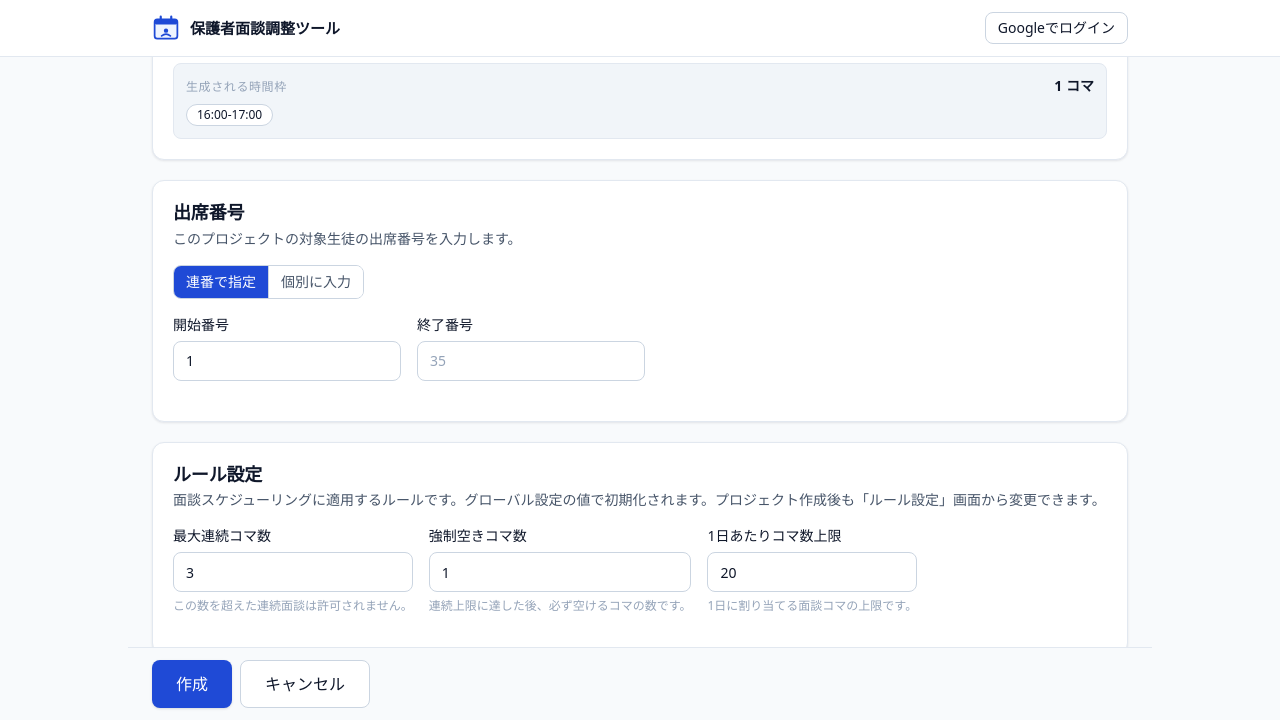
Scenario: ProjectNewPage › 開始番号と終了番号を入力すると連番の出席番号が生成される
(page scrolled)
Type "3" into the number field labelled "開始番号" at (287, 361), box [173,341,401,381]
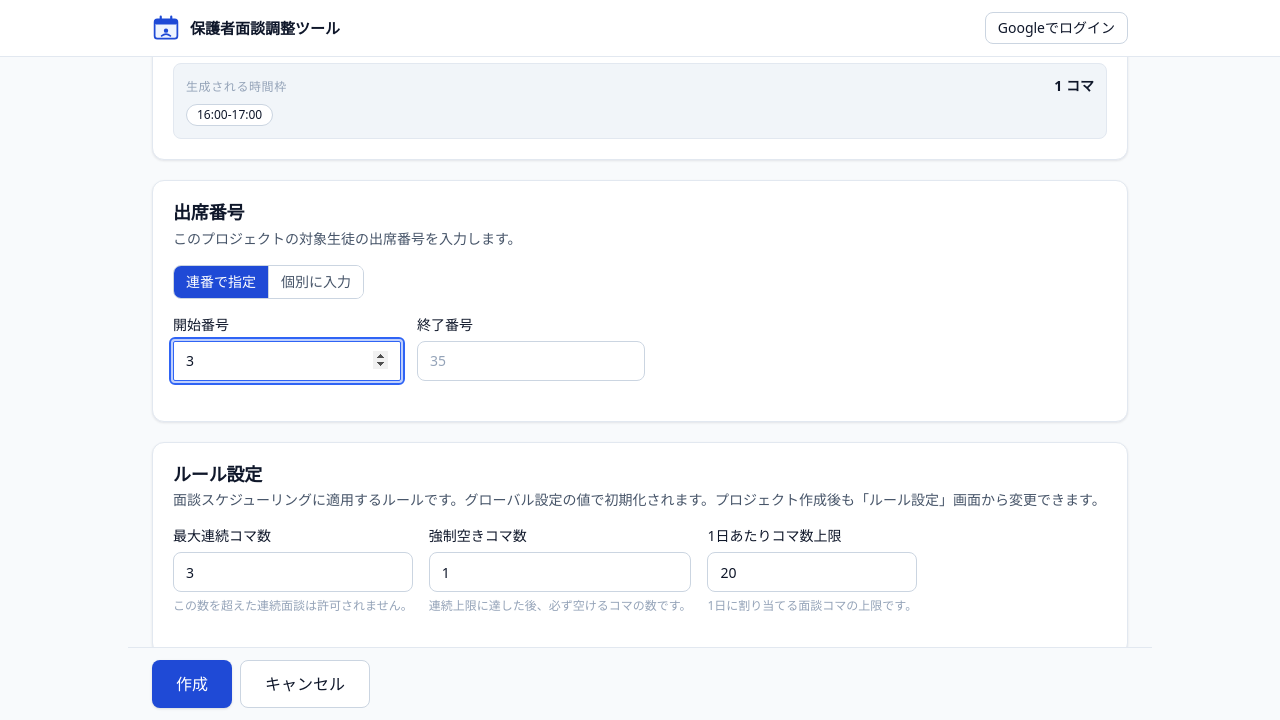
Type "6" into the number field labelled "終了番号" at (531, 361), box [417,341,645,381]
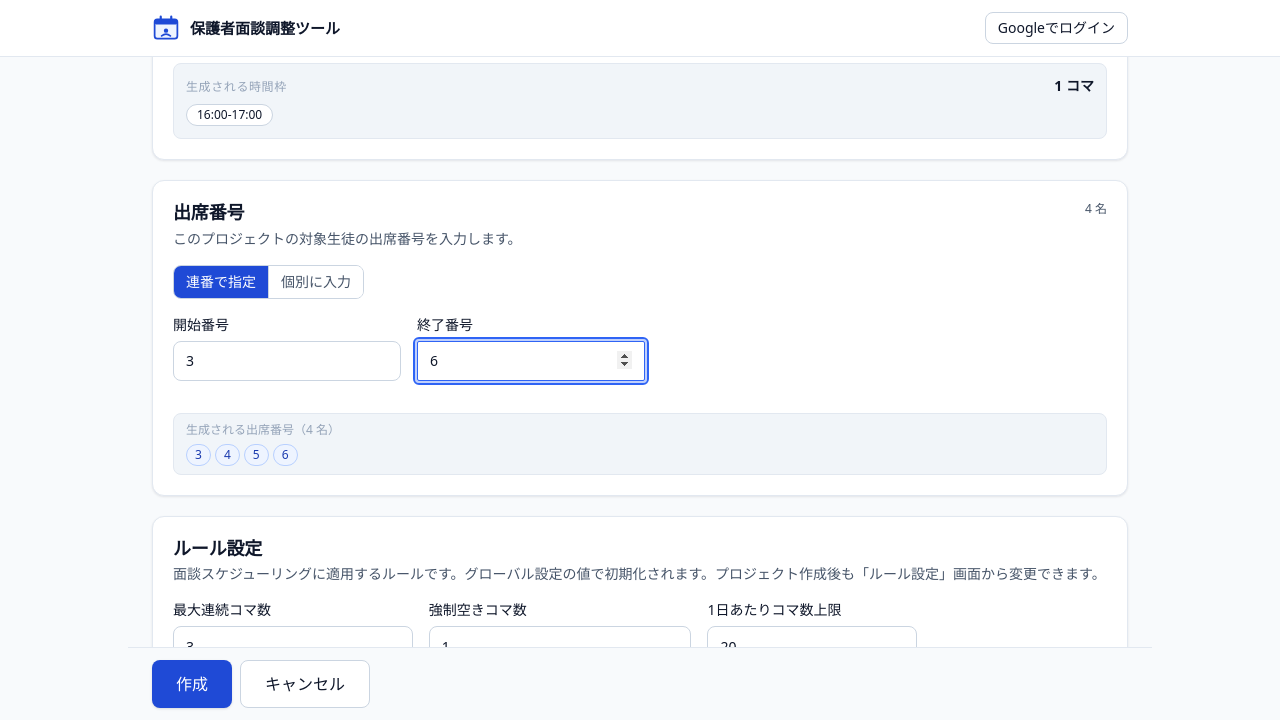
Now the element with test id "range-numbers-preview" shows "生成される出席番号（4 名）", box [173,413,1107,475]
Now the text "3" is shown, box [186,444,211,466]
Now the text "4" is shown, box [215,444,240,466]
